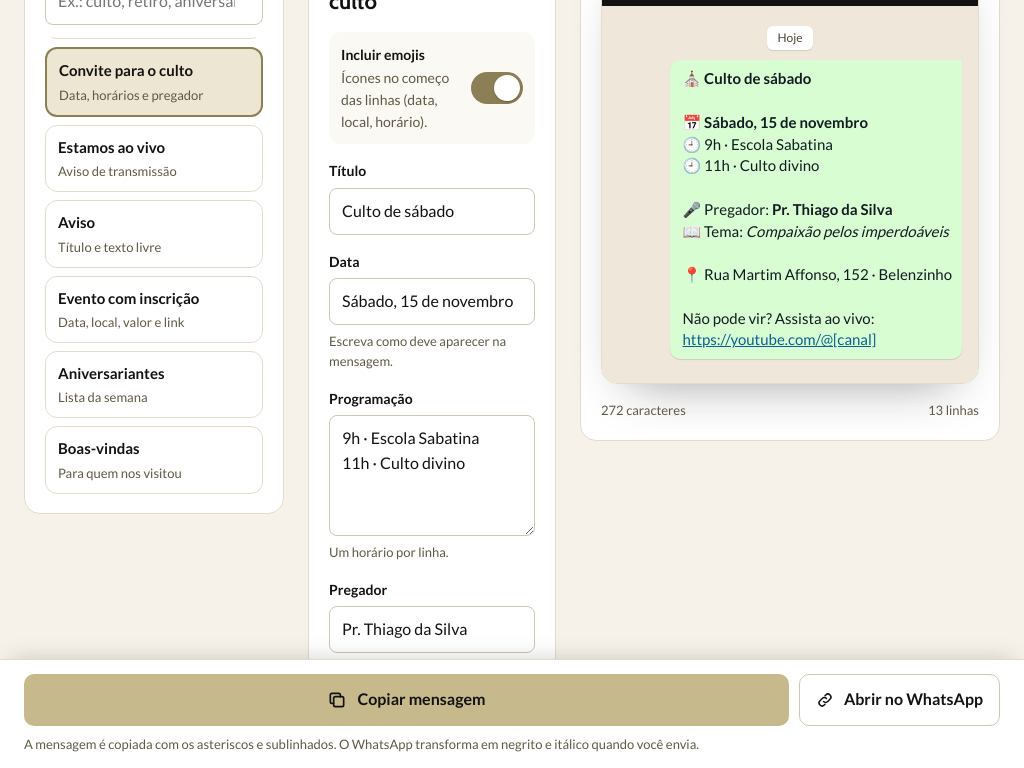
Scenario: WhatsappEditor › switches between models
The width and height of the screenshot is (1024, 768).
(page scrolled)
Click the button "Aniversariantes Lista da semana".
click(154, 385)  # box [45,351,263,418]
(page scrolled)
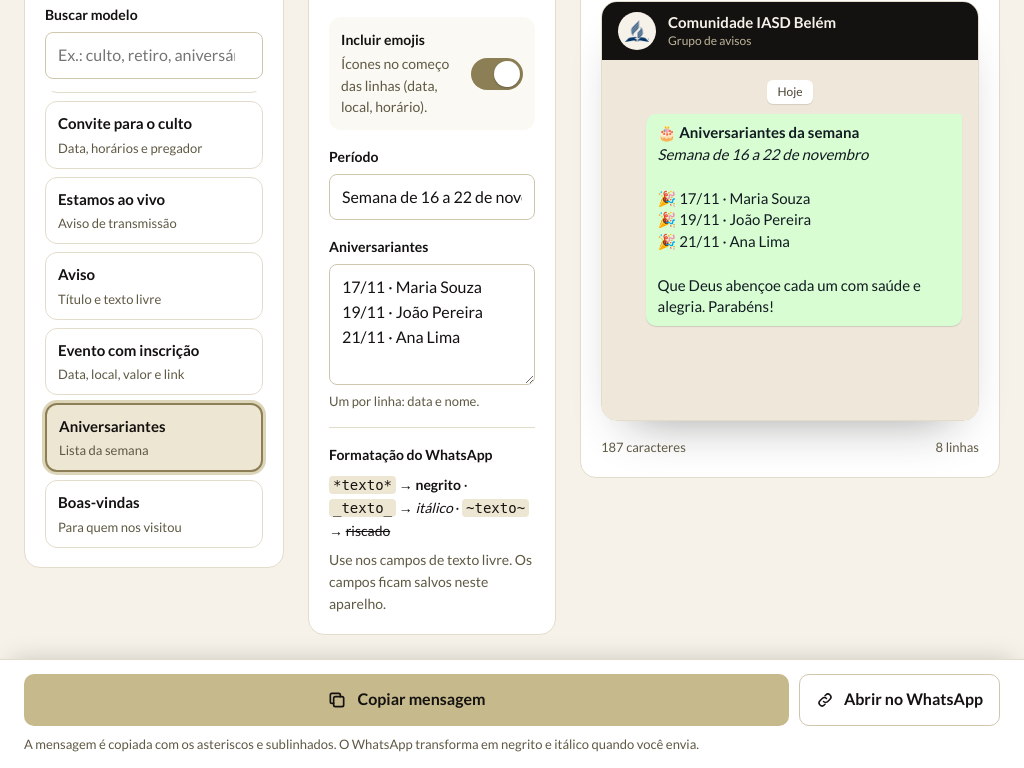
Expected: the field labelled "Período" is shown, [329,174,535,220]
Expected: the text "Aniversariantes da semana" is shown, [679,123,859,141]
